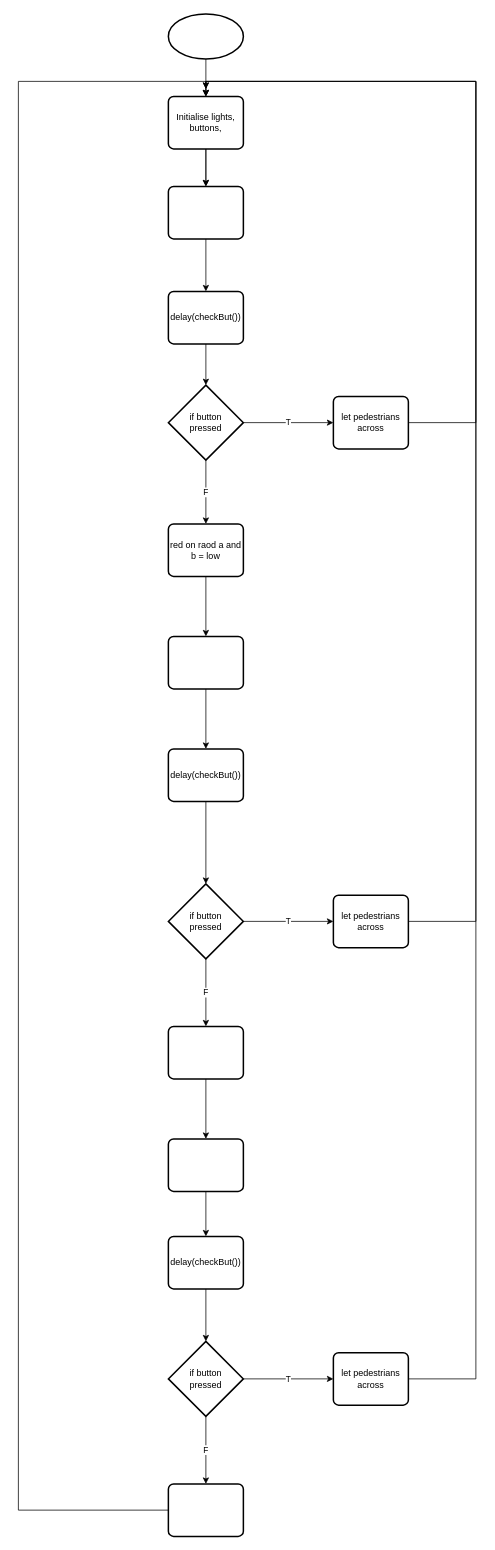
Image size: 495x1550. Some labels were removed from this diagram. The shapes that lost their labels are listed below. From the top down, each one's box as (x1, y1, x2, y2) in pixels, then its label:
(167, 13, 244, 59): Start
(167, 185, 244, 239): red on raod a and b = high
(167, 635, 244, 689): amber on raod a and b = high
(167, 1025, 244, 1079): amber on raod a and b = low
(167, 1138, 244, 1192): green on raod a and b = high
(167, 1483, 244, 1537): green on raod a and b = low
